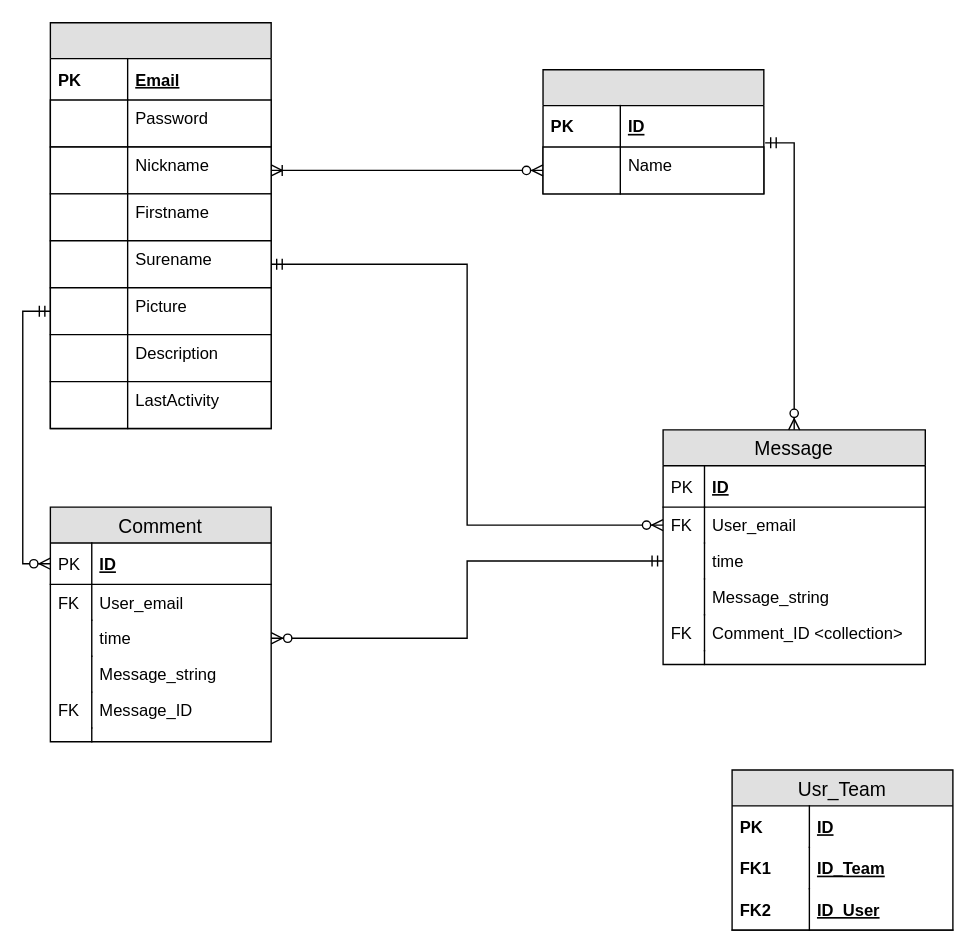
The diagram is 976 pixels wide and 952 high, and some of its shapes have lost their labels. The box of each missing label's shape, as (x1, y1, x2, y2) in pixels:
Team: (542, 68, 764, 194)
User: (49, 21, 271, 428)
